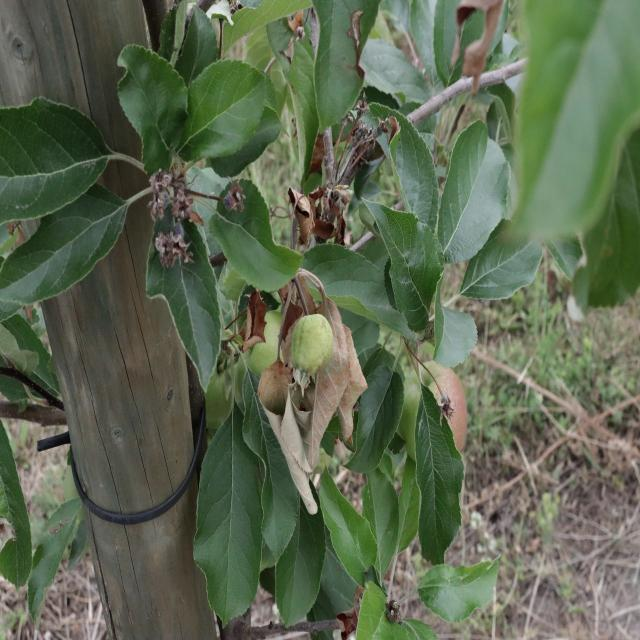-FireBlight-: (284, 180, 352, 244), (246, 294, 274, 366)
